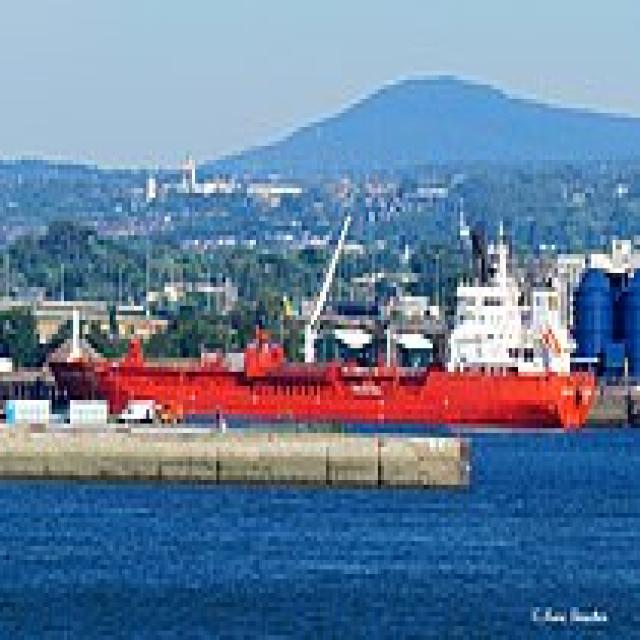Tanker: (37, 216, 600, 433)
